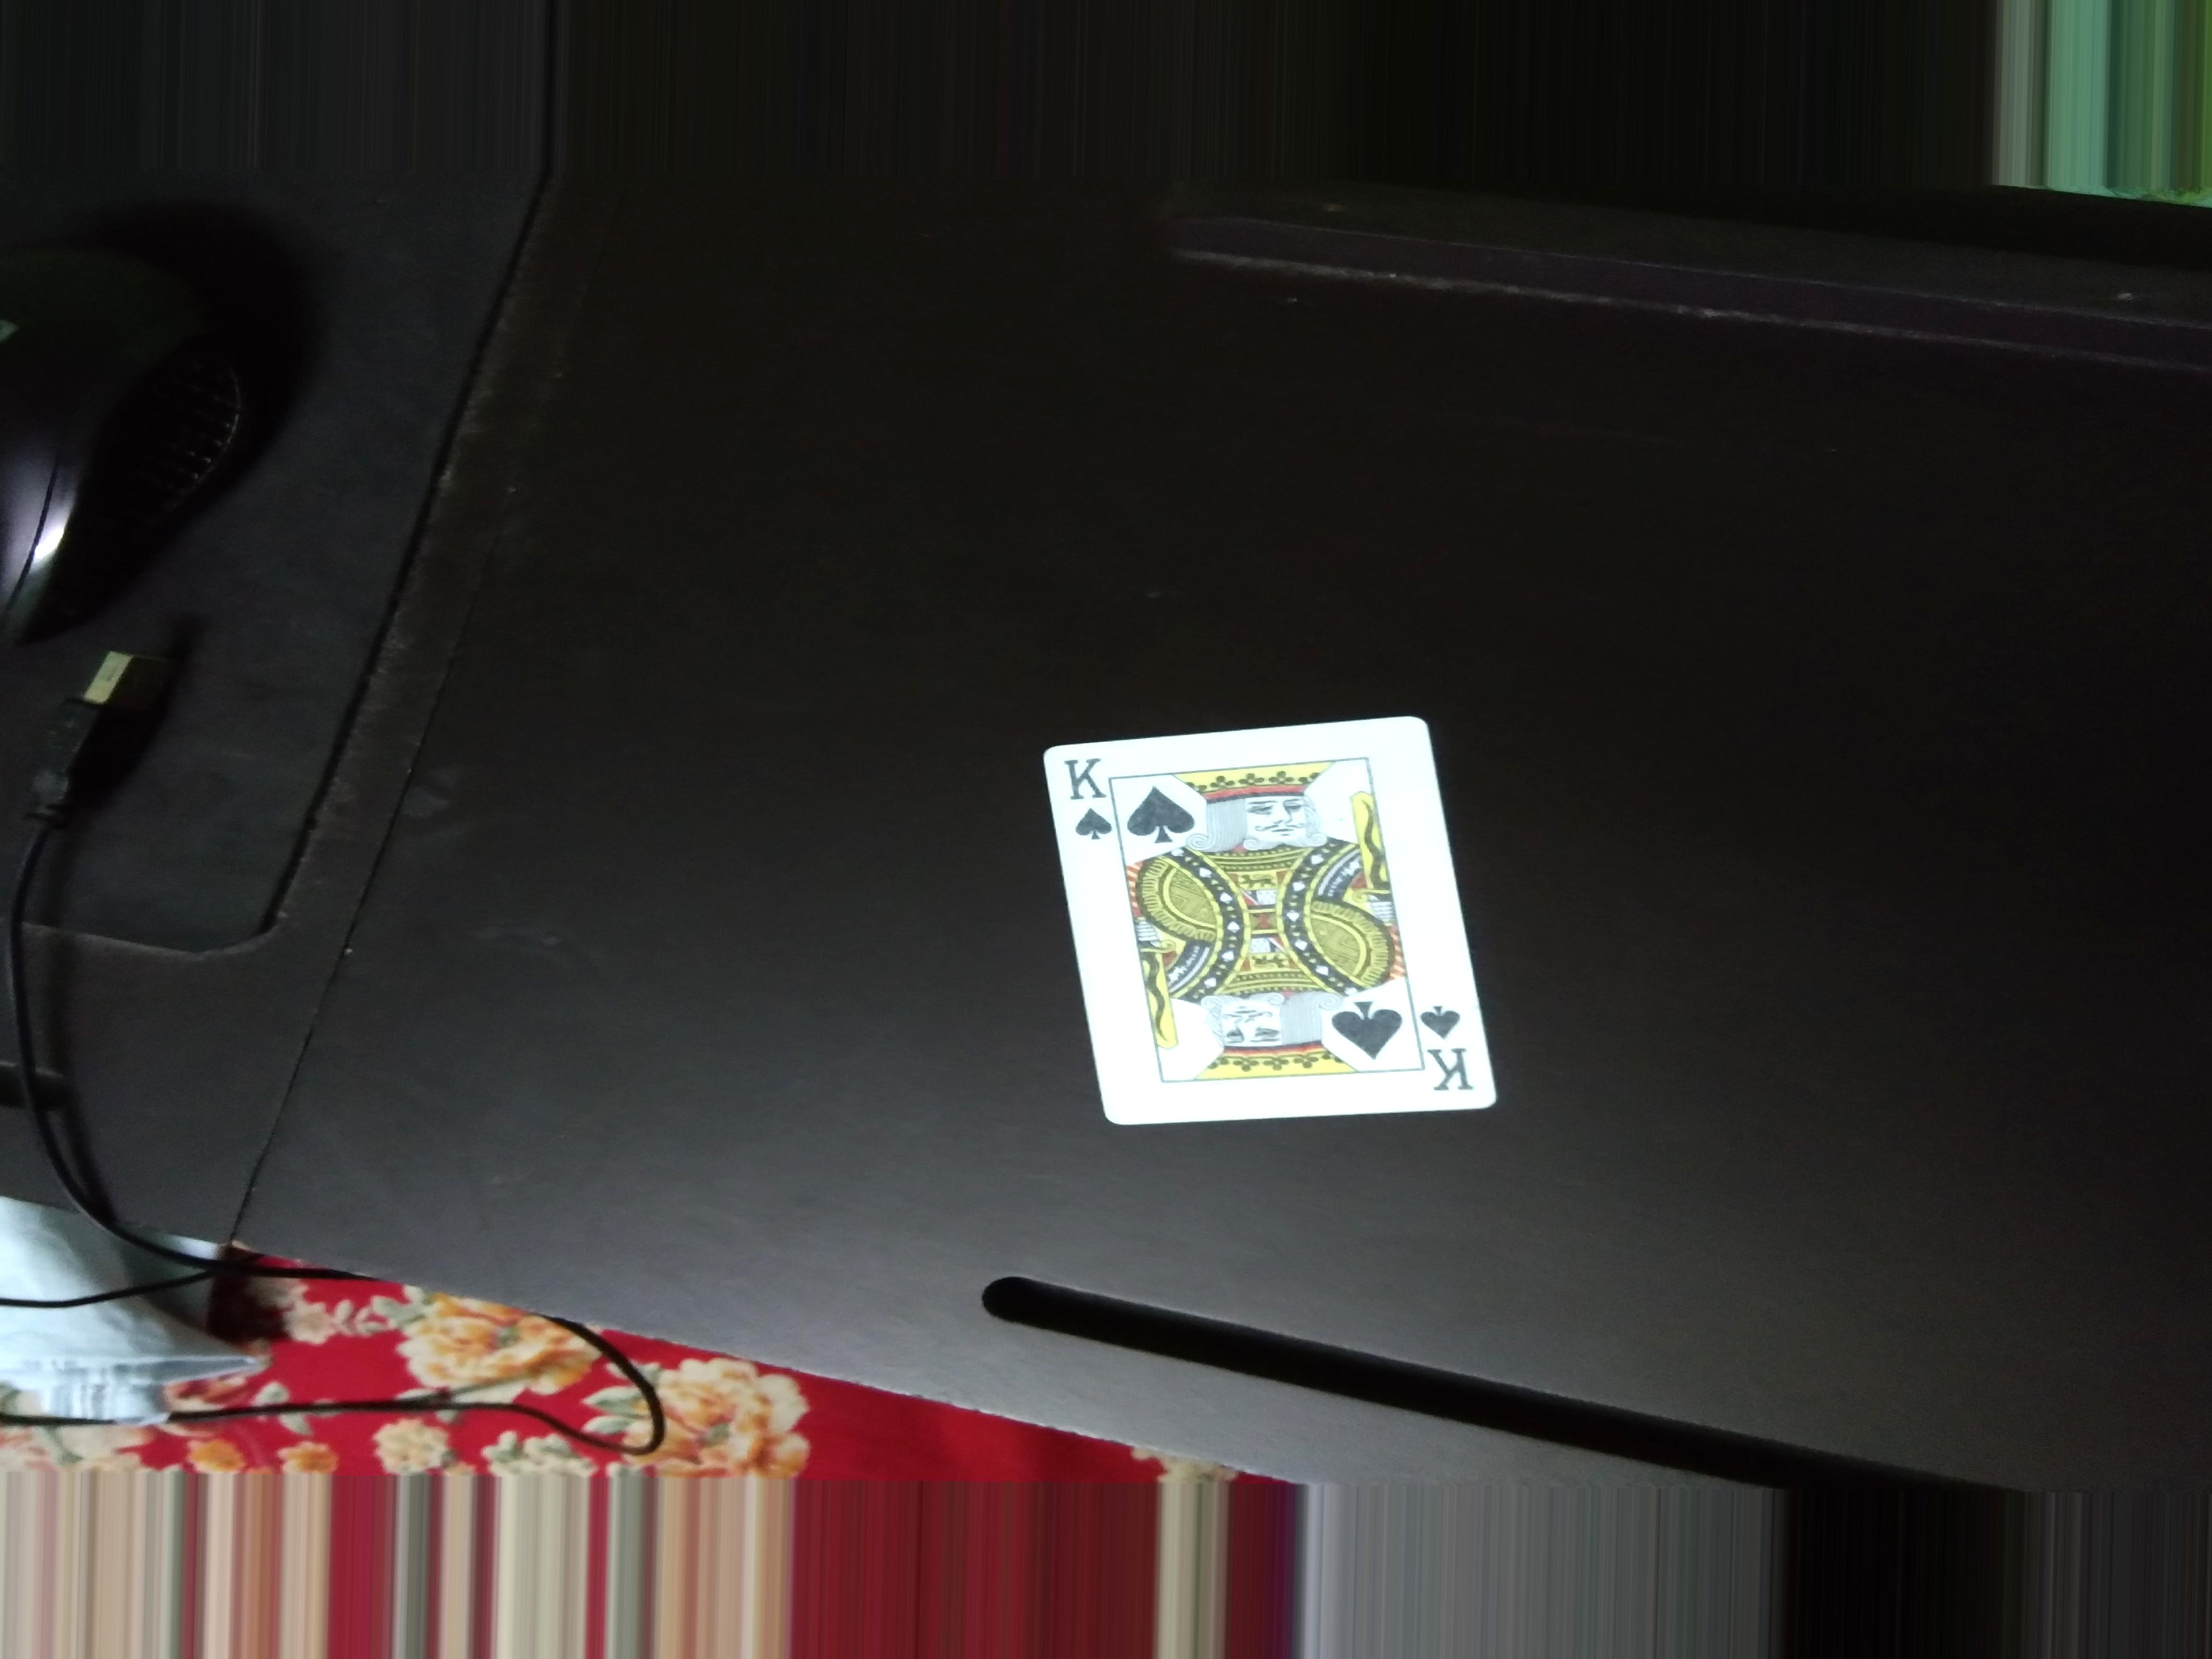KS: (1059, 744, 1109, 847)
